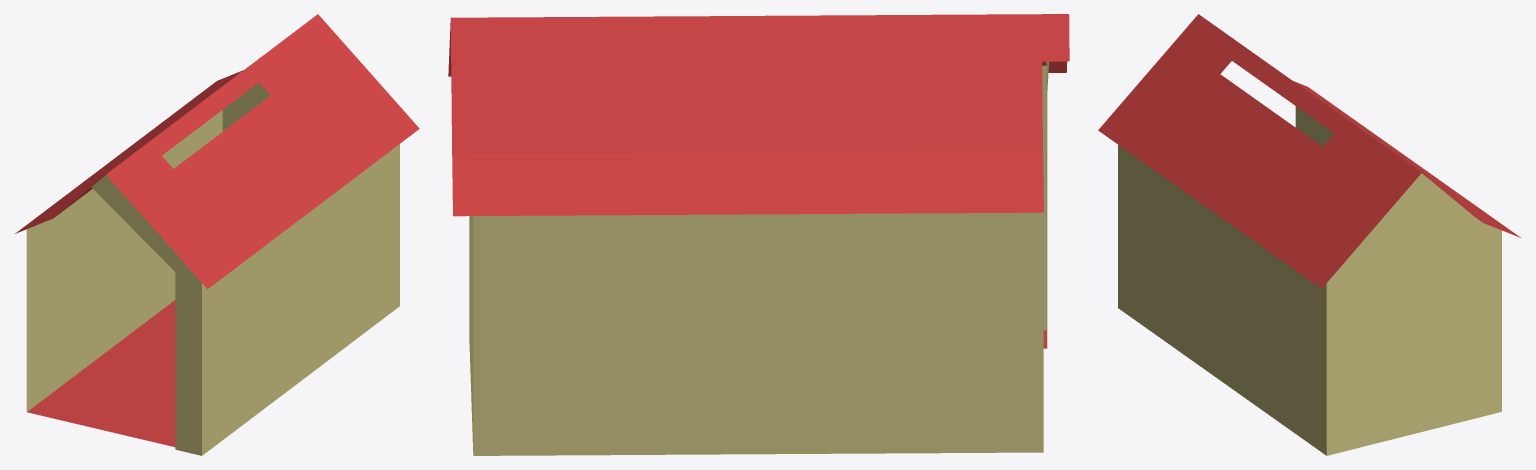
3 renders of one model, left to right at view 1: azimuth 30°, elevation 25°; view 2: azimuth 150°, elevation 25°; view 3: azimuth 270°, elevation 25°, orthographic. The views are drawn at different scales.
Size of the model in its own units: 24.72 by 21.94 by 15.22.
